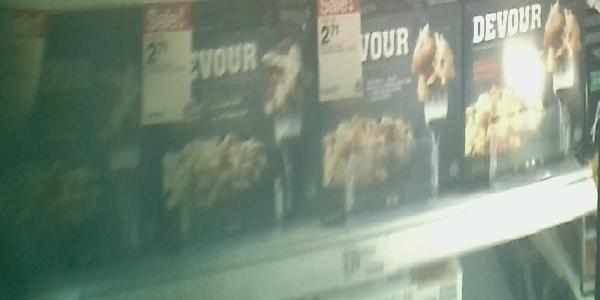pizza1: (149, 15, 307, 243), (2, 15, 144, 260), (308, 8, 462, 230), (468, 1, 586, 186)
